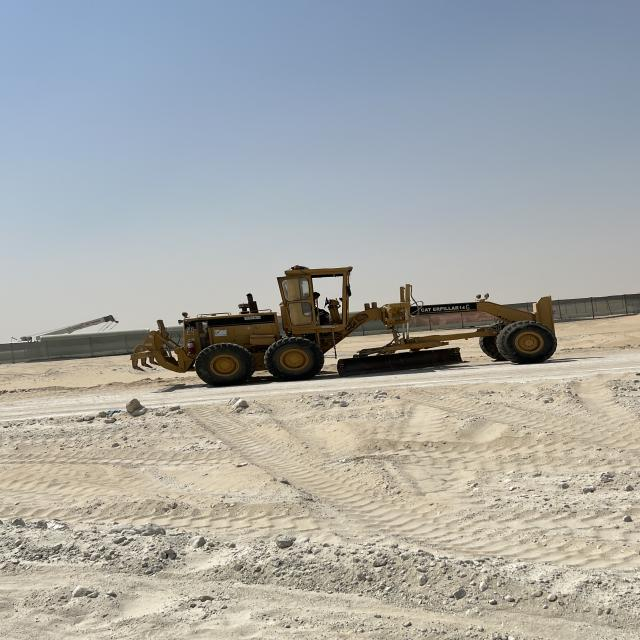Grader: (128, 257, 559, 409)
